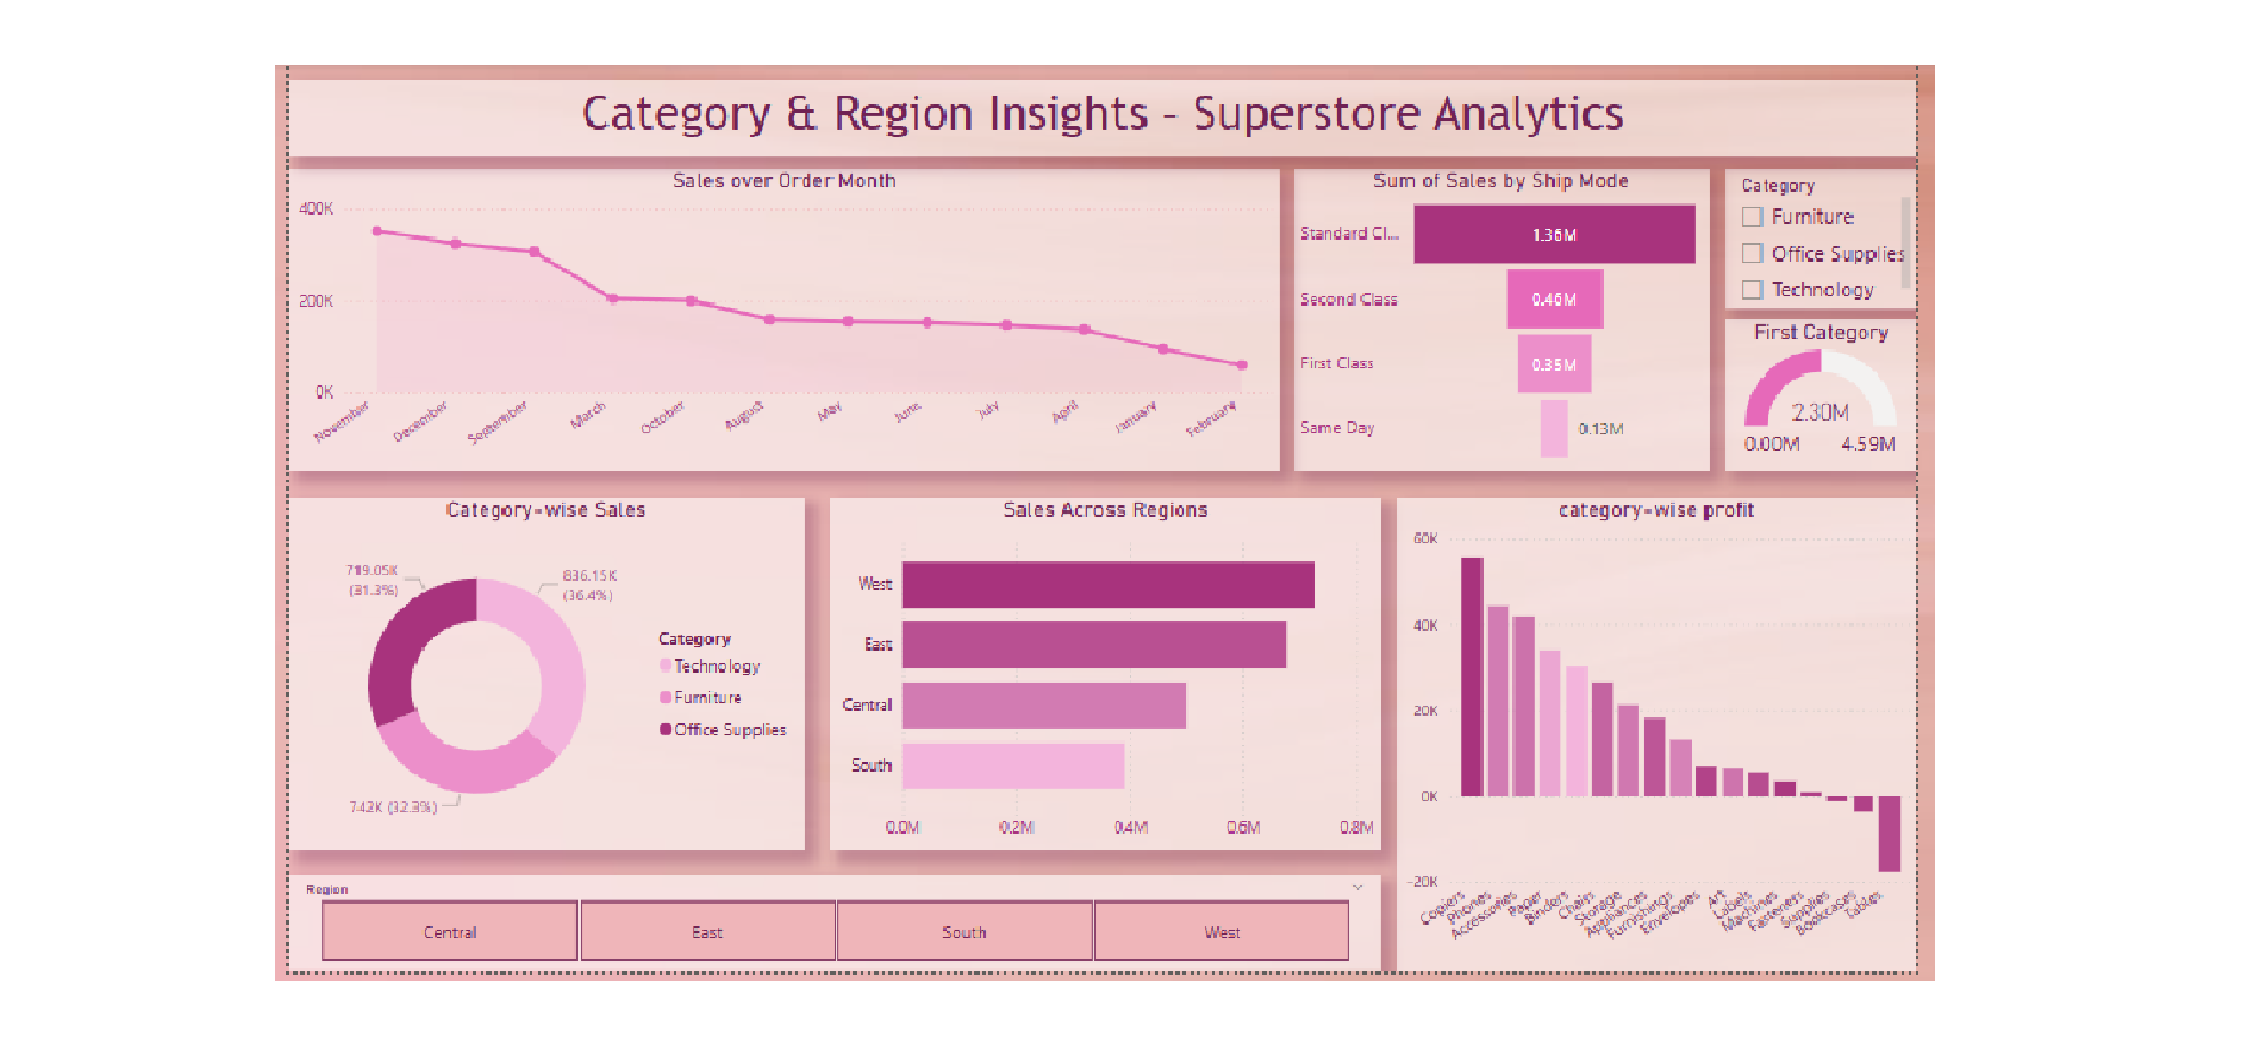

The dashboard page shown, as its layout file describes it:
{"tool":"powerbi","page":{"name":"Page 1","canvas":[1280,720],"ordinal":0},"visuals":[{"type":"donutChart","title":"Category-wise Sales","fields":{"Category":["Orders.Category"],"Y":["Sum(Orders.Sales)"]},"box":[0,344.5,405.2,280.9],"z":0},{"type":"barChart","title":"Sales Across Regions","fields":{"Y":["Sum(Orders.Sales)"],"Category":["Orders.Region"]},"box":[426.4,344.5,432,280.9],"z":1000},{"type":"slicer","fields":{"Values":["Orders.Region"]},"box":[0,643.8,858.4,76.2],"z":2000},{"type":"slicer","fields":{"Values":["Orders.Category"]},"box":[1129.4,83.3,151.1,111.5],"z":3000},{"type":"funnel","fields":{"Category":["Orders.Ship Mode"],"Y":["Sum(Orders.Sales)"]},"box":[790.6,83.3,326.1,240],"z":4000},{"type":"lineStackedColumnComboChart","title":"category-wise profit","fields":{"Category":["Orders.Sub-Category"],"Y":["Sum(Orders.Profit)"]},"box":[871.1,344.5,409.4,375.5],"z":5000},{"type":"lineChart","title":"Sales over Order Month","fields":{"Y":["Sum(Orders.Sales)"],"Category":["Orders.Order Month"]},"box":[0,83.3,779.3,240],"z":6000},{"type":"gauge","title":"First Category","fields":{"Y":["Sum(Orders.Sales)"]},"box":[1129.4,203.3,151.1,120],"z":7000},{"type":"textbox","box":[0,12.7,1280.5,60.7],"z":7001}]}

Visuals, with their boxes on the page's 1280x720 design canvas (x1, y1, x2, y2). These are canvas units, not pixel positions in the 2264x1062 screenshot, which may show the page scaled, cropped or inside an application window:
"Category-wise Sales" donutChart: crop(0, 344, 405, 625)
"Sales Across Regions" barChart: crop(426, 344, 858, 625)
slicer - Orders.Region: crop(0, 644, 858, 720)
slicer - Orders.Category: crop(1129, 83, 1280, 195)
funnel - Orders.Ship Mode x Sum(Orders.Sales): crop(791, 83, 1117, 323)
"category-wise profit" lineStackedColumnComboChart: crop(871, 344, 1280, 720)
"Sales over Order Month" lineChart: crop(0, 83, 779, 323)
"First Category" gauge: crop(1129, 203, 1280, 323)
textbox: crop(0, 13, 1280, 73)
